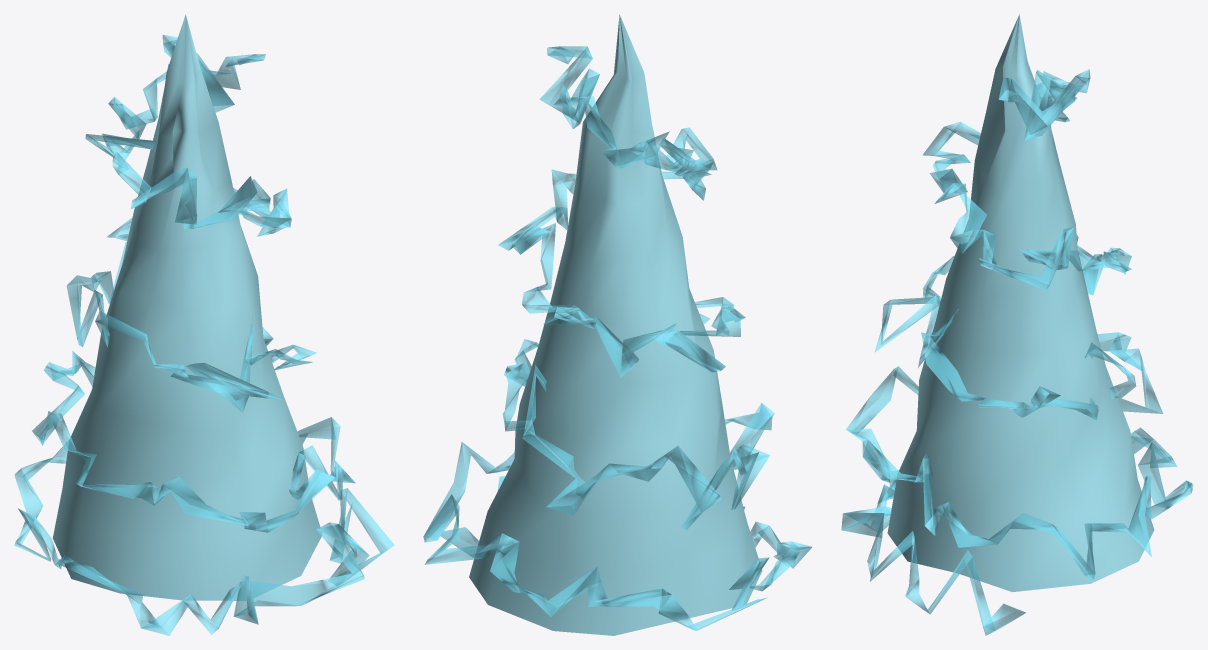
The model's file is Beam5.FBX.
The picture shows the model from 3 angles, left to right: view 1: azimuth 30°, elevation 25°; view 2: azimuth 150°, elevation 25°; view 3: azimuth 270°, elevation 25°; orthographic projection. The views are drawn at different scales.
Visible parts, largest first — view 1: Cone001, Helix001; view 2: Cone001, Helix001; view 3: Cone001, Helix001.
Boxes of the visible parts, left/top/right/bottom form: Cone001: left=52, top=14, right=322, bottom=600; Helix001: left=14, top=34, right=394, bottom=635; Cone001: left=469, top=14, right=762, bottom=635; Helix001: left=423, top=46, right=811, bottom=630; Cone001: left=887, top=14, right=1154, bottom=592; Helix001: left=841, top=69, right=1193, bottom=635.
Bounding box in the file's own units: 543 × 904 × 519.
